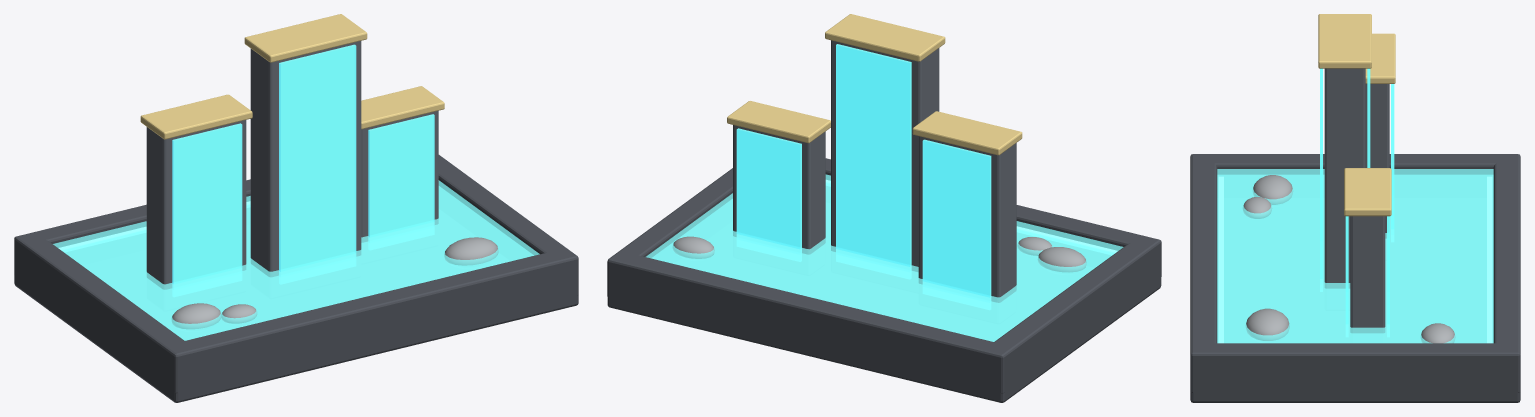
Rendered from fountain_modern_zen.glb.
3 renders of one model, left to right at view 1: azimuth 30°, elevation 25°; view 2: azimuth 150°, elevation 25°; view 3: azimuth 270°, elevation 25°, orthographic. The views are drawn at different scales.
Parts seen in each view (by area): view 1: PoolBase; view 2: PoolBase; view 3: PoolBase.
Boxes of the visible parts, left/top/right/bottom form: PoolBase: left=14, top=14, right=578, bottom=402; PoolBase: left=607, top=14, right=1161, bottom=402; PoolBase: left=1190, top=14, right=1520, bottom=402.
Bounding box in the file's own units: 4.6 × 2.87 × 3.2.
